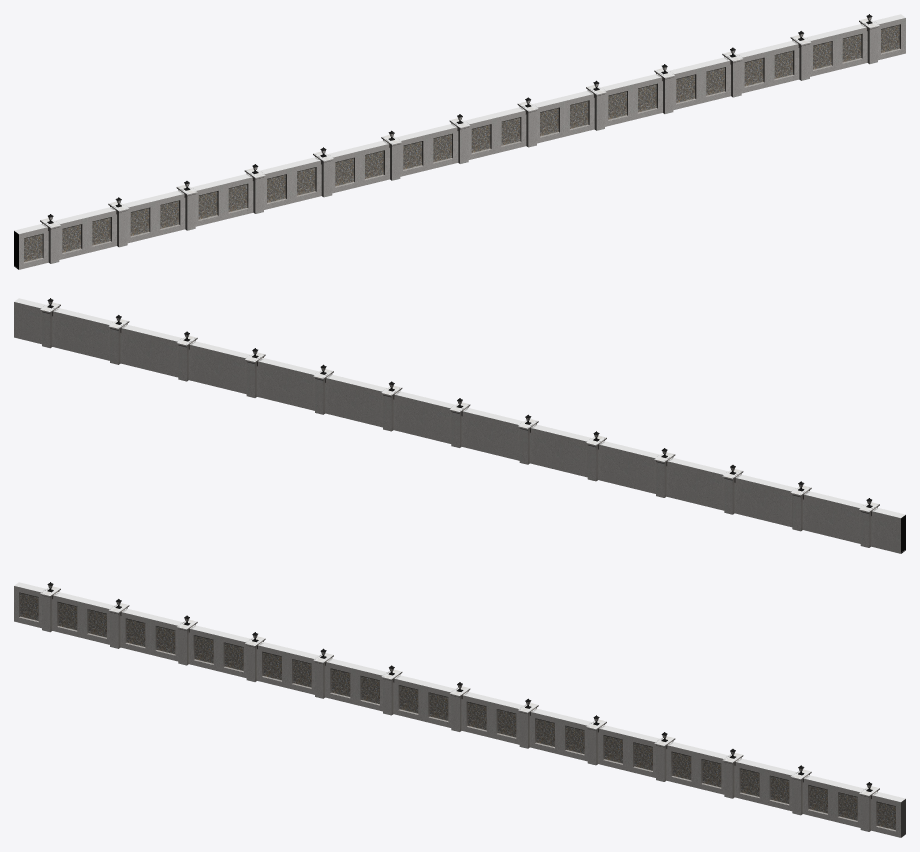
The model's file is wall.glb.
3 renders of one model, top to bottom at view 1: azimuth 30°, elevation 25°; view 2: azimuth 150°, elevation 25°; view 3: azimuth 330°, elevation 25°, orthographic.
Parts seen in each view (by area): view 1: Wall_Gltf_Export; view 2: Wall_Gltf_Export; view 3: Wall_Gltf_Export.
Boxes of the visible parts, box(x1,y1,x2,y2) form: Wall_Gltf_Export: box(14, 14, 905, 269); Wall_Gltf_Export: box(14, 298, 905, 553); Wall_Gltf_Export: box(14, 582, 905, 837).
Bounding box in the file's own units: 52 × 2.57 × 1.08.
Materials: 1 (1 with a texture image).
